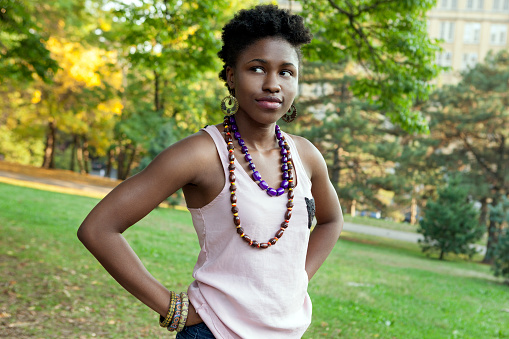em pe: (131, 8, 342, 339)
